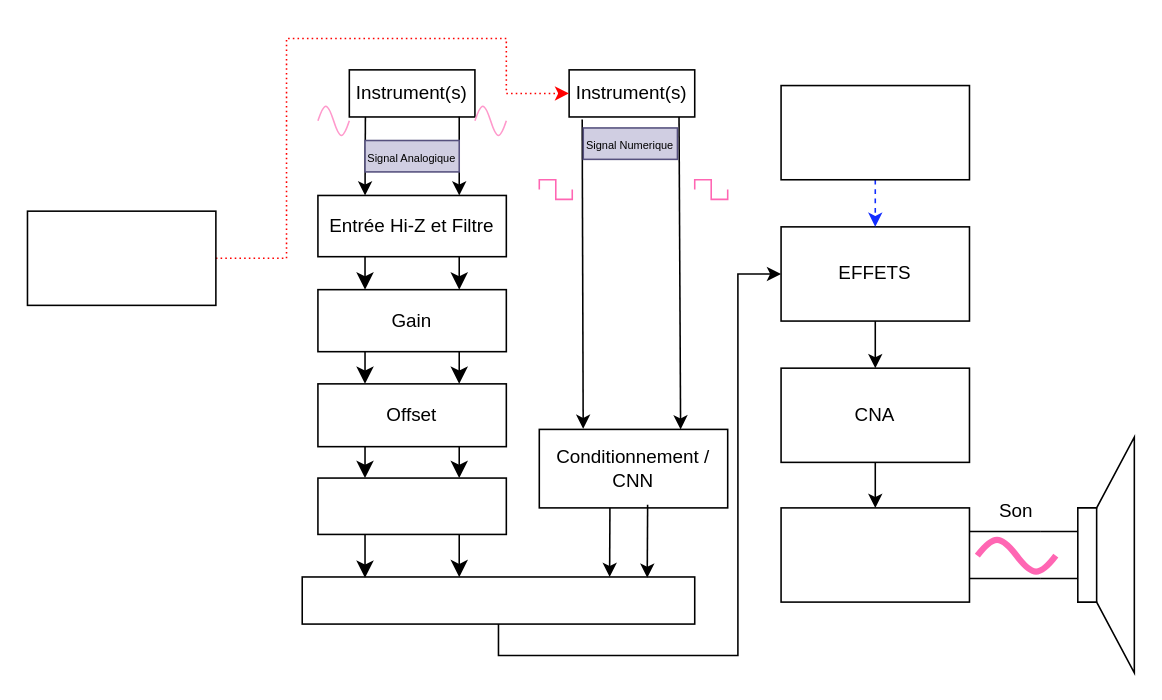
The diagram is 1162 pixels wide and 700 high, and some of its shapes have lost their labels. Here are the shapes that lost their labels. From the top down, the box of each, then its label:
(780, 84, 969, 180): IHM
(26, 210, 216, 305): Demarage / Sync
(316, 476, 506, 534): Filtre (AA) + CAN
(780, 506, 969, 602): Amplification
(301, 575, 695, 624): Traitement numérique du signal
